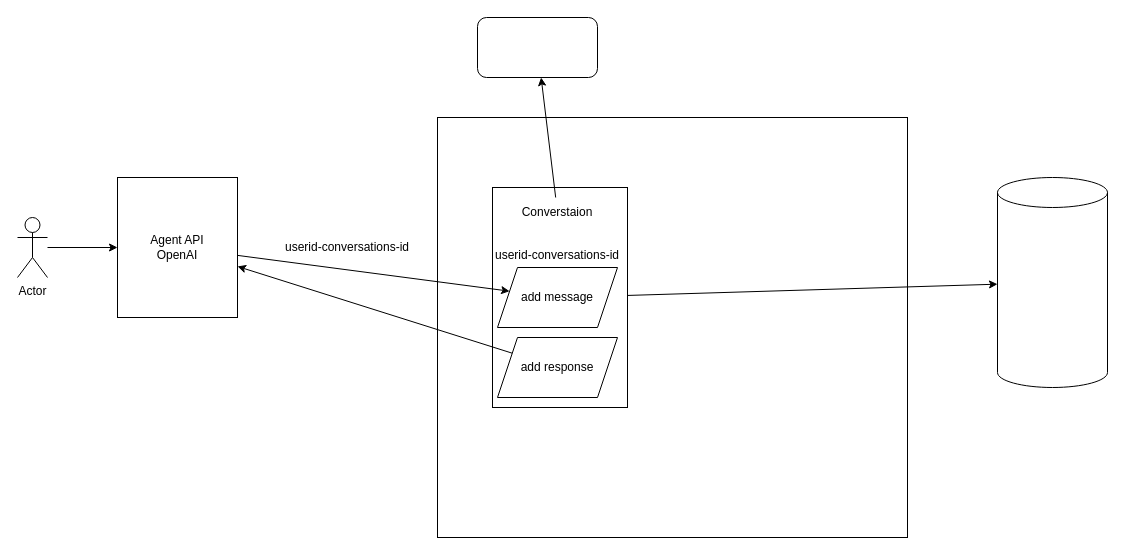
Image size: 1125x555. Some labels were removed from this diagram. Here are the shapes that lost their labels. From the top down, the box of each, then its label:
(476, 16, 598, 78): Open AI
(436, 116, 908, 538): Orleans Cluster N x B of keys
